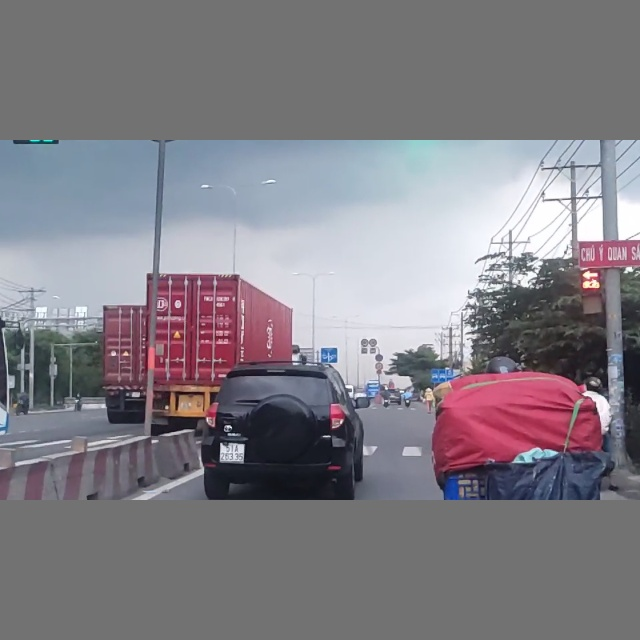R.415a: (431, 369, 453, 381)
